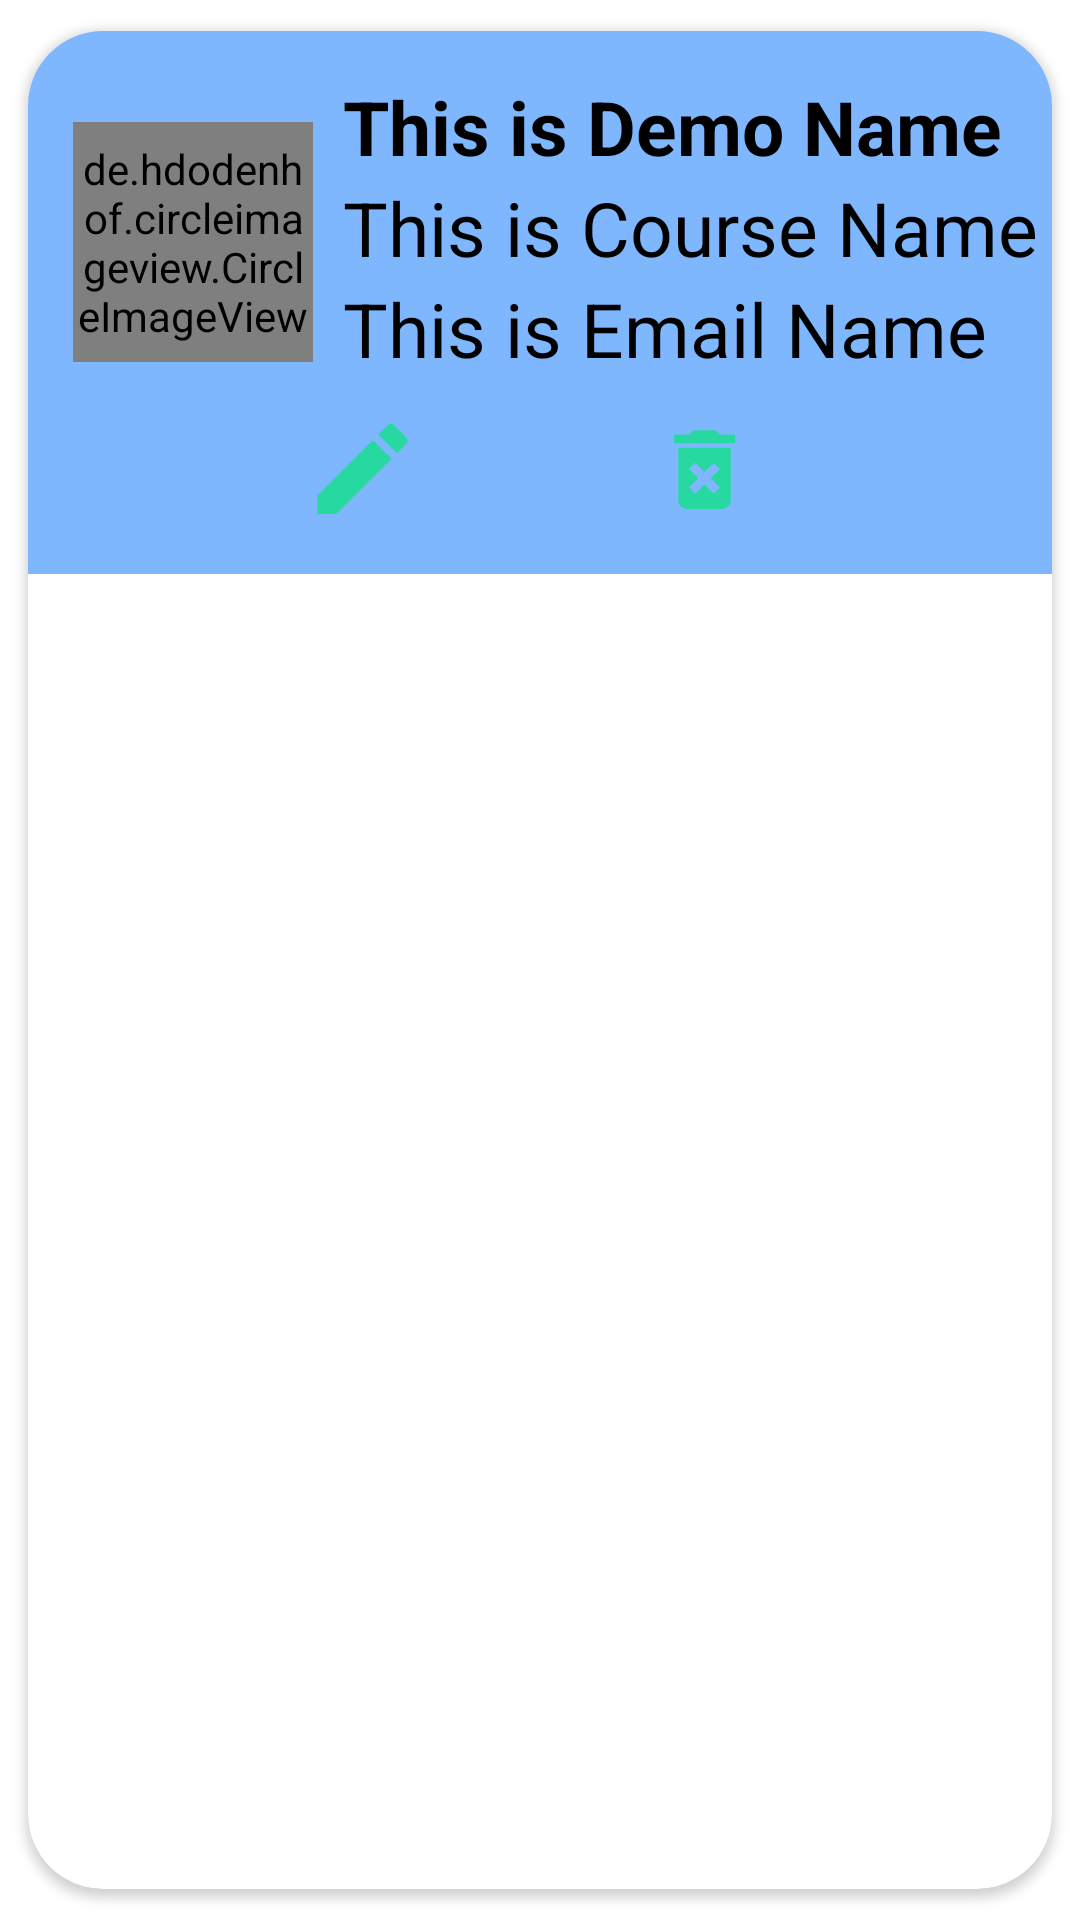

Named icons in this screenshot (1080 x 1920) and their bounding boxes, (x1, y1, x2, y2):
delete forever: (674, 430, 735, 509)
editbtn: (317, 424, 408, 514)
